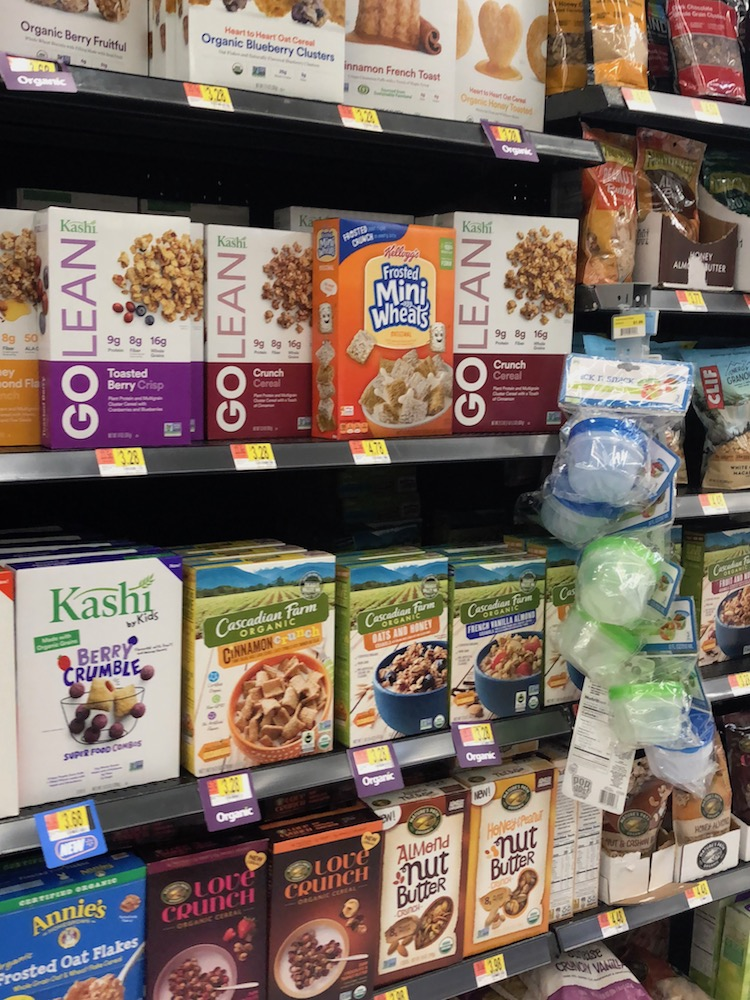Frosted Mini Original -9295869: (319, 223, 458, 444)
